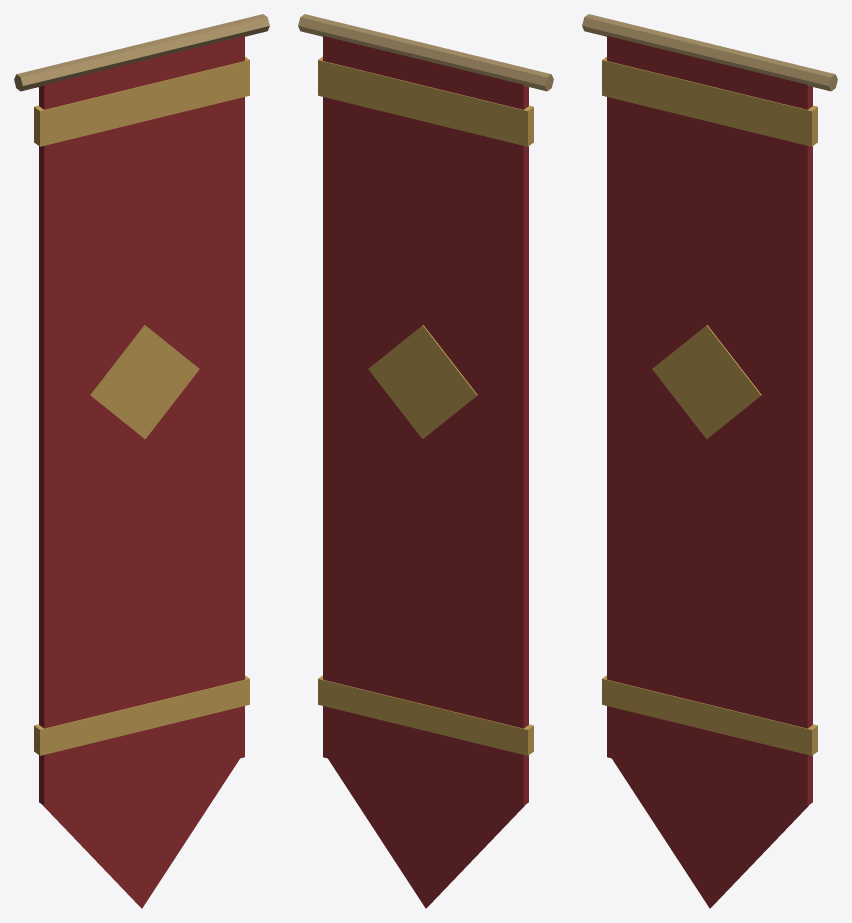
The model's file is Banner.fbx.
3 views of the same model, side by side, from view 1: azimuth 30°, elevation 25°; view 2: azimuth 150°, elevation 25°; view 3: azimuth 330°, elevation 25° (orthographic).
Visible parts, largest first — view 1: Banner; view 2: Banner; view 3: Banner.
Boxes of the visible parts, x1,y1,x2,y2 form: Banner: (14,14,269,908); Banner: (298,14,553,908); Banner: (582,14,837,908).
Size of the model in its own units: 1.6 by 5.34 by 0.1.
